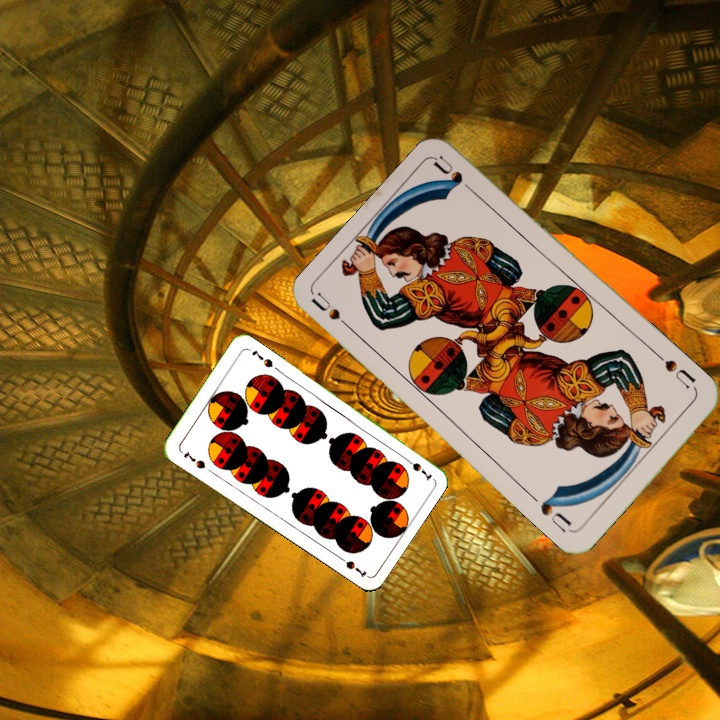S7: (399, 452, 435, 482), (179, 447, 208, 472)
SU: (309, 290, 359, 337), (652, 349, 699, 391)
